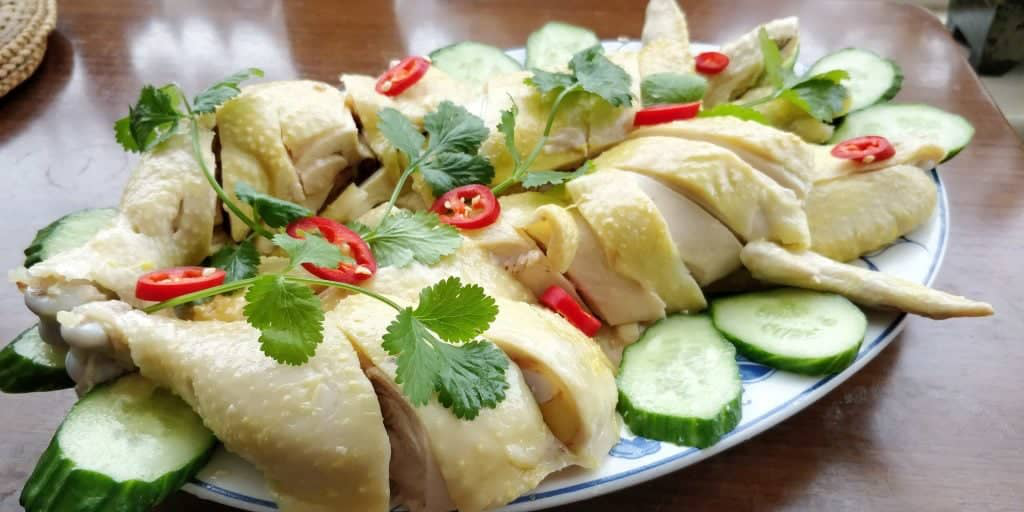Steamed Chicken Rice: (98, 24, 914, 446)
